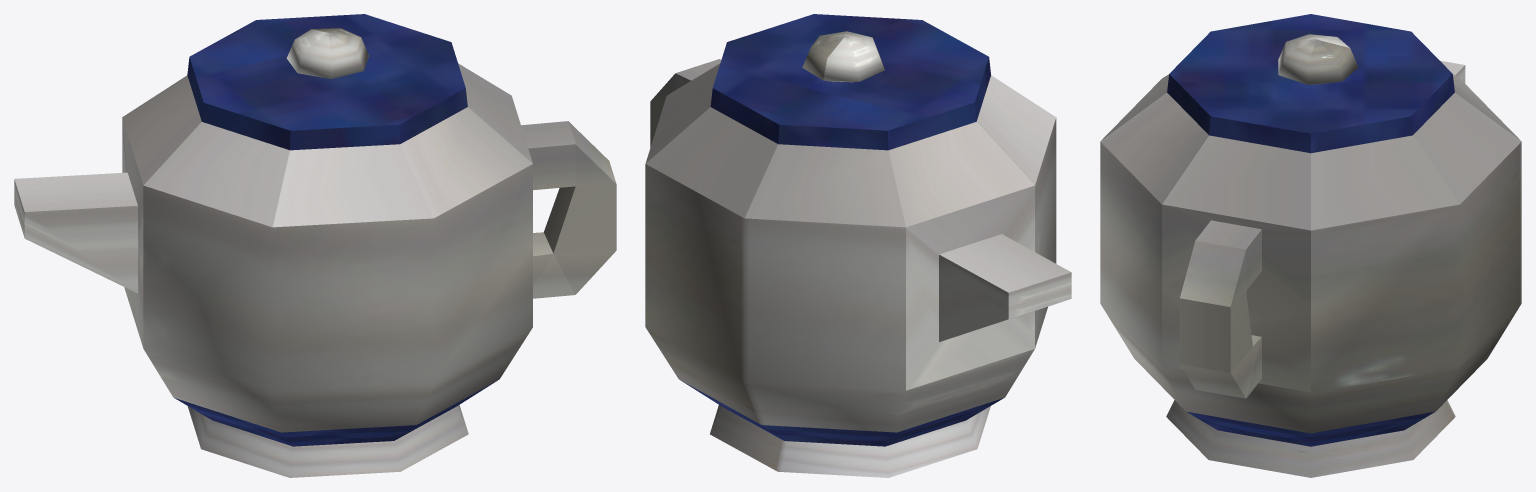
Rendered from jug.FBX.
3 views of the same model, side by side, from view 1: azimuth 30°, elevation 25°; view 2: azimuth 150°, elevation 25°; view 3: azimuth 270°, elevation 25° (orthographic).
Visible parts, largest first — view 1: Cylinder001, Object001, Object003, Sphere001, Object002; view 2: Cylinder001, Object001, Object003, Sphere001, Object002; view 3: Cylinder001, Object001, Object003, Sphere001, Object002.
Boxes of the visible parts, x1,y1,x2,y2 form: Cylinder001: (14,63,616,432); Object001: (187,14,467,150); Object003: (187,405,468,477); Sphere001: (286,28,369,78); Object002: (174,380,497,446); Cylinder001: (645,59,1071,432); Object001: (710,14,990,150); Object003: (710,405,990,477); Sphere001: (802,31,884,82); Object002: (680,380,1003,446); Cylinder001: (1100,60,1521,433); Object001: (1167,14,1454,153); Object003: (1166,400,1455,477); Sphere001: (1278,34,1358,84); Object002: (1187,412,1434,446).
Size of the model in its own units: 106 by 77.26 by 77.87.
Materials: 4 (4 with a texture image).
